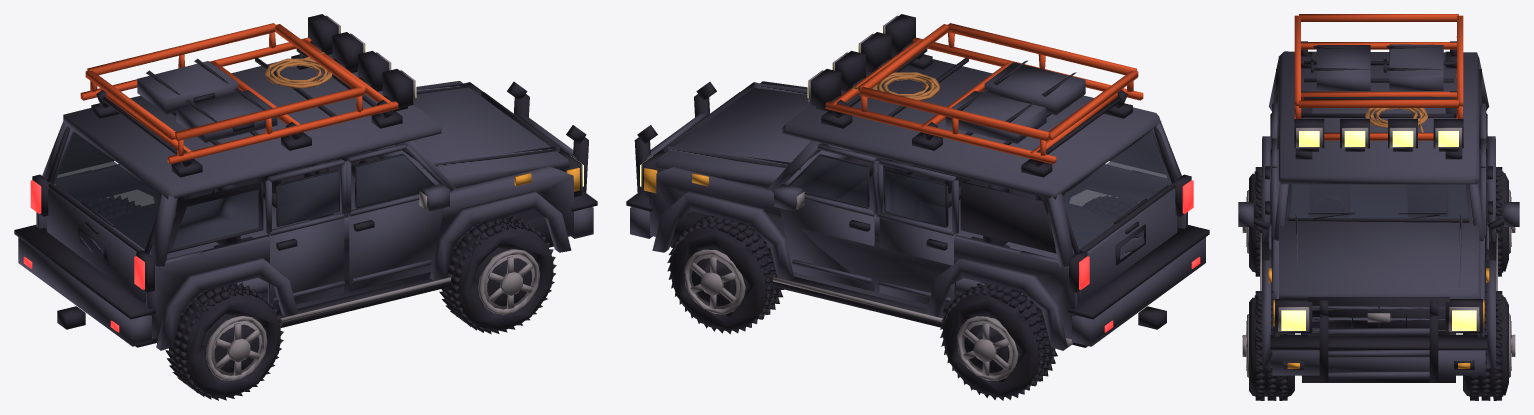
3 renders of one model, left to right at view 1: azimuth 30°, elevation 25°; view 2: azimuth 150°, elevation 25°; view 3: azimuth 270°, elevation 25°, orthographic. The views are drawn at different scales.
Visible parts, largest first — view 1: body, object 6, wheelRL, wheelFL, wheelRR; view 2: body, object 6, wheelRR, wheelFR, wheelRL; view 3: body, object 6, wheelFL, wheelFR, wheelRL, wheelRR.
Part boxes in pixels (bbox=[...]): body: bbox=[14, 14, 597, 350]; object 6: bbox=[23, 26, 583, 332]; wheelRL: bbox=[165, 282, 283, 400]; wheelFL: bbox=[439, 215, 556, 334]; wheelRR: bbox=[85, 196, 140, 218]; body: bbox=[626, 14, 1209, 350]; object 6: bbox=[640, 26, 1200, 332]; wheelRR: bbox=[940, 282, 1057, 400]; wheelFR: bbox=[667, 215, 784, 334]; wheelRL: bbox=[1083, 195, 1138, 218]; body: bbox=[1238, 14, 1519, 382]; object 6: bbox=[1265, 103, 1492, 330]; wheelFL: bbox=[1242, 291, 1294, 400]; wheelFR: bbox=[1463, 291, 1515, 400]; wheelRL: bbox=[1242, 167, 1271, 276]; wheelRR: bbox=[1486, 167, 1515, 276].
Size of the model in its own units: 5.12 by 2.56 by 2.71.
